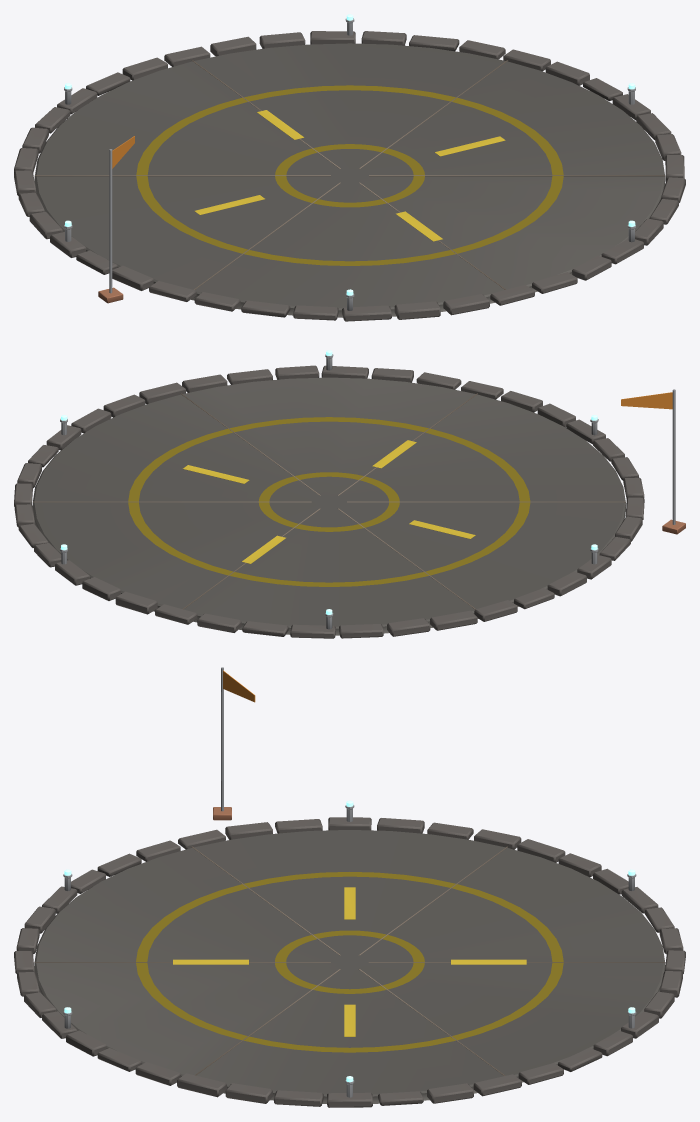
The model's file is bs_pad.glb.
3 renders of one model, top to bottom at view 1: azimuth 30°, elevation 25°; view 2: azimuth 150°, elevation 25°; view 3: azimuth 270°, elevation 25°, orthographic. The views are drawn at different scales.
Parts seen in each view (by area): view 1: bs_pad_mesh; view 2: bs_pad_mesh; view 3: bs_pad_mesh.
Boxes of the visible parts, x1,y1,x2,y2 form: bs_pad_mesh: (14, 14, 685, 321); bs_pad_mesh: (14, 350, 685, 638); bs_pad_mesh: (14, 667, 685, 1107).
Bounding box in the file's own units: 11.01 × 2.72 × 10.65.
